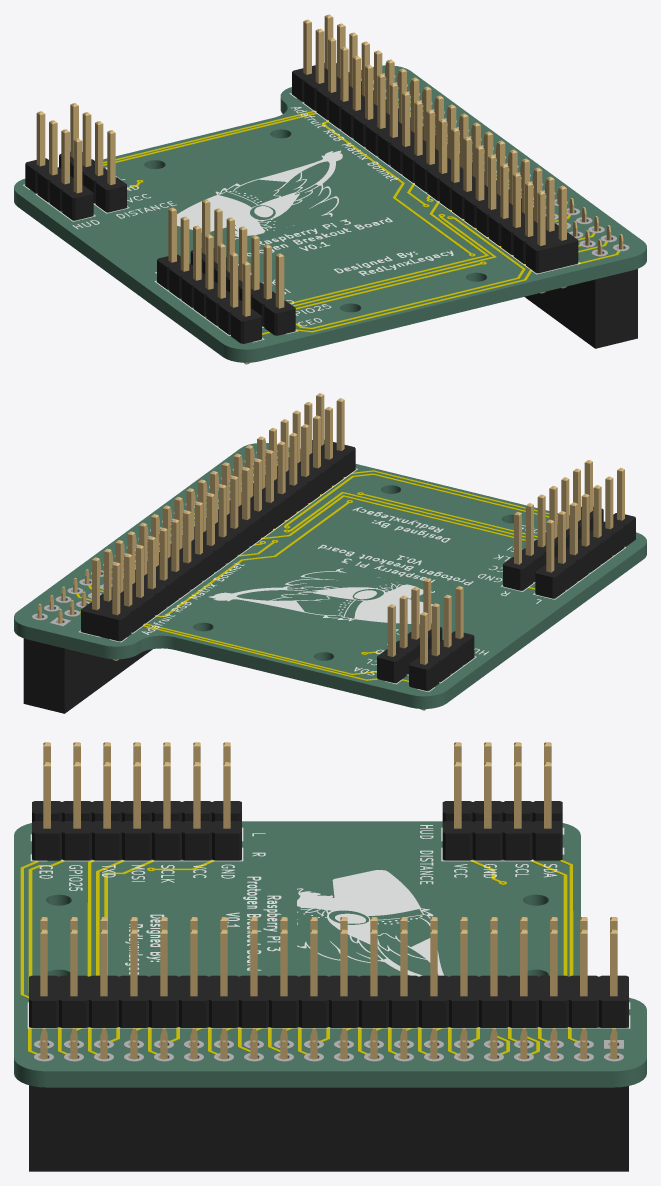
Rendered from ProtogenPCB.glb.
The picture shows the model from 3 angles, top to bottom: view 1: azimuth 30°, elevation 25°; view 2: azimuth 150°, elevation 25°; view 3: azimuth 270°, elevation 25°; orthographic projection. The views are drawn at different scales.
Parts seen in each view (by area): view 1: ProtogenPCB; view 2: ProtogenPCB; view 3: ProtogenPCB.
Part boxes in pixels (bbox=[...]): ProtogenPCB: bbox=[14, 14, 646, 364]; ProtogenPCB: bbox=[14, 393, 646, 713]; ProtogenPCB: bbox=[14, 742, 646, 1171].
Size of the model in its own units: 0.0501 by 0.0187 by 0.0536.
